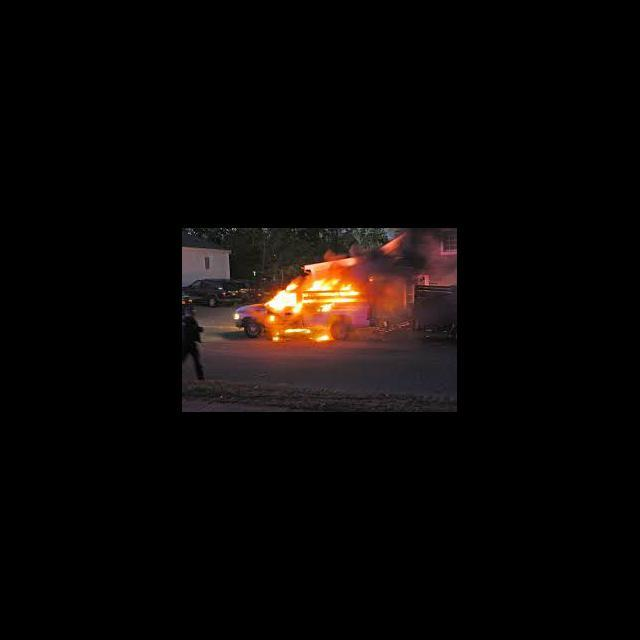Fire: (264, 279, 362, 313), (284, 324, 312, 335), (315, 330, 332, 344), (271, 332, 281, 342)
Smoke: (344, 230, 453, 277)
